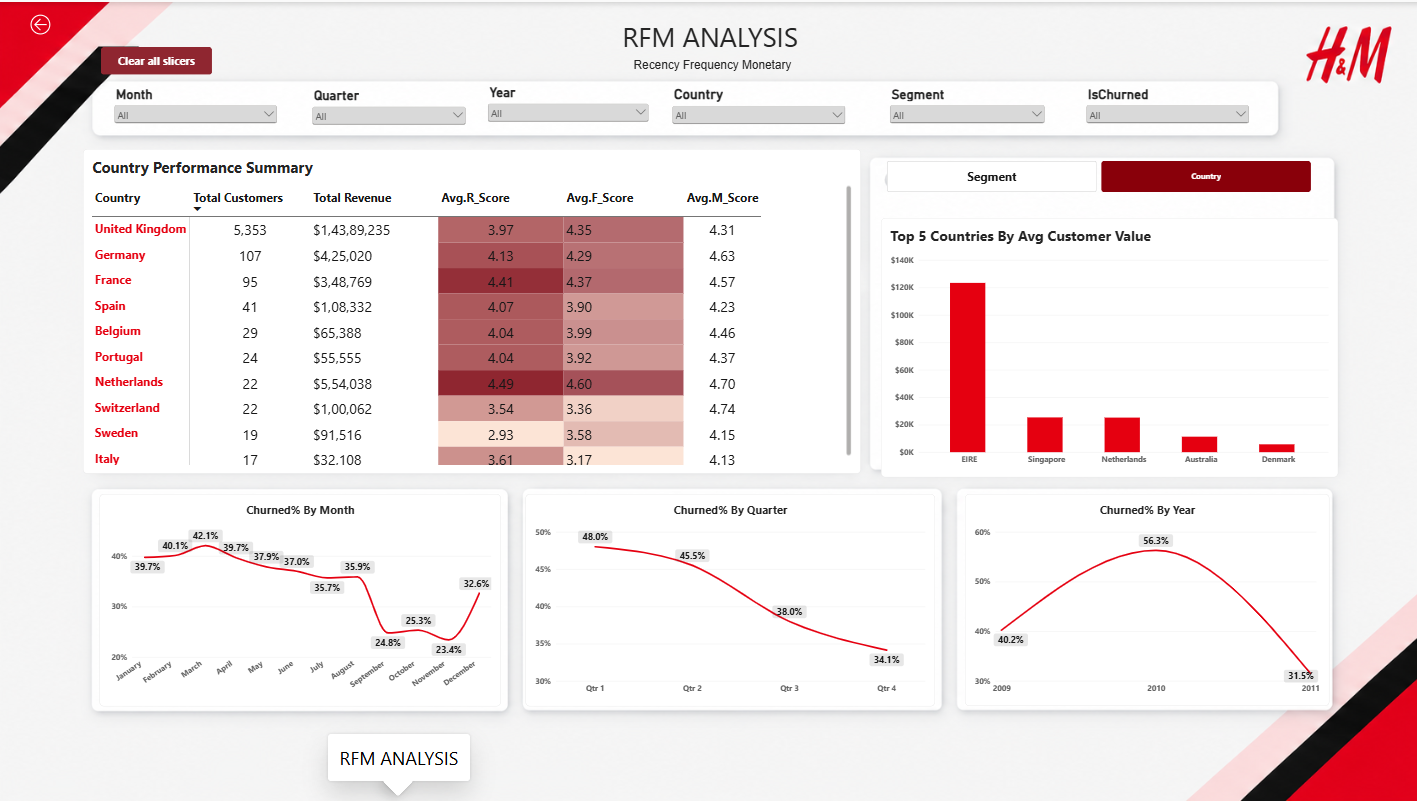

This screenshot's page, from the dashboard's own definition file:
{"tool":"powerbi","page":{"name":"RFM ANALYSIS ","canvas":[2560,1440],"ordinal":2},"visuals":[{"type":"slicer","fields":{"Values":["Sheet1.InvoiceDate.Variation.Date Hierarchy.Month"]},"box":[202.8,151.4,302.8,113.5],"z":0},{"type":"pivotTable","title":"Country Performance Summary ","fields":{"Rows":["Sheet1.Country"],"Values":["Sheet1.Total Customers","Sheet1.Total Revenue","Avg(Sheet1.R_Score)","Avg(Sheet1.F_Score)","Avg(Sheet1.M_Score)"]},"box":[151.6,265.3,1402,585.4],"z":0,"group":"g2"},{"type":"lineChart","title":"Churned%  By Month ","fields":{"Category":["Sheet1.InvoiceDate.Variation.Date Hierarchy.Month"],"Y":["Sheet1.Churned %"]},"box":[180,887.4,723.5,382.4],"z":0,"group":"g1"},{"type":"slicer","fields":{"Values":["Sheet1.InvoiceDate.Variation.Date Hierarchy.Quarter"]},"box":[559.6,154.1,286.6,73],"z":1000},{"type":"columnChart","title":"Top 5 Countries By Avg Customer Value ","fields":{"Category":["Sheet1.Country"],"Y":["Sheet1.Average Customer Value"]},"box":[1589,389,824.2,467.4],"z":1000,"group":"g2"},{"type":"lineChart","title":"Churned%  By Quarter","fields":{"Category":["Sheet1.InvoiceMonth.Variation.Date Hierarchy.Quarter"],"Y":["Sheet1.Churned %"]},"box":[947.6,887.4,738.2,382.4],"z":1000,"group":"g1"},{"type":"slicer","fields":{"Values":["Sheet1.InvoiceDate.Variation.Date Hierarchy.Year"]},"box":[875.2,148.4,299.8,93.9],"z":2000},{"type":"lineChart","title":"Churned% By Year ","fields":{"Category":["Sheet1.InvoiceMonth.Variation.Date Hierarchy.Year"],"Y":["Sheet1.Churned %"]},"box":[1740,886.2,656.9,382.1],"z":2000,"group":"g1"},{"type":"slicer","fields":{"Values":["Sheet1.Country"]},"box":[1208.4,151.4,321.7,91.9],"z":3000},{"type":"slicer","fields":{"Values":["Sheet1.Segment"]},"box":[1600.4,151.4,289.3,91.9],"z":4000},{"type":"slicer","fields":{"Values":["Sheet1.IsChurned"]},"box":[1953.3,151.4,302.8,90.9],"z":5000},{"type":"group","id":"g1","title":"Revenue ","box":[180,886.2,2216.9,383.6],"z":7000},{"type":"textbox","box":[1024.6,29.7,527.2,148.7],"z":8000},{"type":"actionButton","box":[0,0,148.7,81.1],"z":9000},{"type":"actionButton","box":[183.8,81.1,200,50],"z":10000},{"type":"textbox","box":[1143.6,94.6,310.9,35.1],"z":11000},{"type":"group","id":"g2","title":"country ","box":[151.6,265.3,2261.6,591.1],"z":12000},{"type":"bookmarkNavigator","box":[1600,287,765.4,56.1],"z":14000}]}

Visuals, with their boxes in screenshot pixels (x1, y1, x2, y2), scaled from the page's 2560x1440 canvas onto the 1417x801 screenshot:
slicer - Sheet1.InvoiceDate.Variation.Date Hierarchy.Month: (x1=112, y1=84, x2=280, y2=147)
"Country Performance Summary " pivotTable: (x1=84, y1=148, x2=860, y2=473)
"Churned%  By Month " lineChart: (x1=100, y1=494, x2=500, y2=706)
slicer - Sheet1.InvoiceDate.Variation.Date Hierarchy.Quarter: (x1=310, y1=86, x2=468, y2=126)
"Top 5 Countries By Avg Customer Value " columnChart: (x1=880, y1=216, x2=1336, y2=476)
"Churned%  By Quarter" lineChart: (x1=525, y1=494, x2=933, y2=706)
slicer - Sheet1.InvoiceDate.Variation.Date Hierarchy.Year: (x1=484, y1=83, x2=650, y2=135)
"Churned% By Year " lineChart: (x1=963, y1=493, x2=1327, y2=705)
slicer - Sheet1.Country: (x1=669, y1=84, x2=847, y2=135)
slicer - Sheet1.Segment: (x1=886, y1=84, x2=1046, y2=135)
slicer - Sheet1.IsChurned: (x1=1081, y1=84, x2=1249, y2=135)
"Revenue " group: (x1=100, y1=493, x2=1327, y2=706)
textbox: (x1=567, y1=17, x2=859, y2=99)
actionButton: (x1=0, y1=0, x2=82, y2=45)
actionButton: (x1=102, y1=45, x2=212, y2=73)
textbox: (x1=633, y1=53, x2=805, y2=72)
"country " group: (x1=84, y1=148, x2=1336, y2=476)
bookmarkNavigator: (x1=886, y1=160, x2=1309, y2=191)
